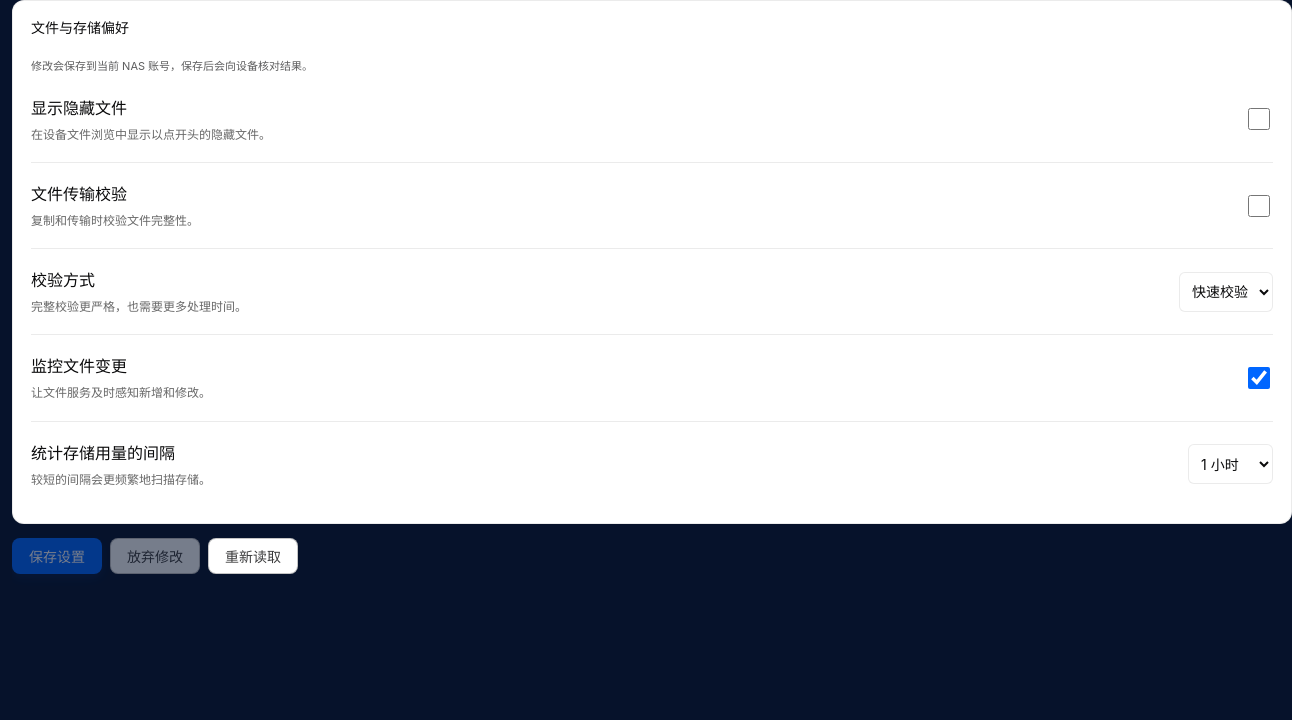
it: uses a settings form and confirms the device value after saving
Click the checkbox labelled "显示隐藏文件".
click(1259, 119)  # box [1248, 108, 1270, 130]
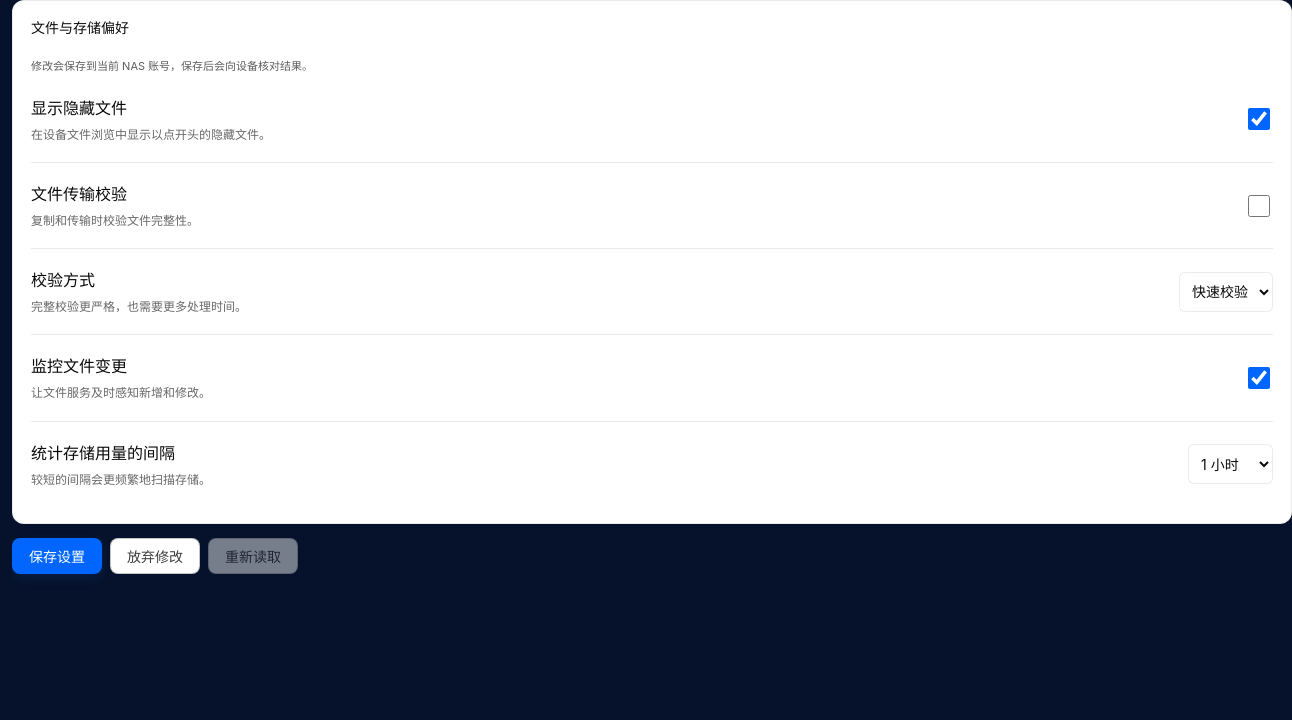
Click the button "保存设置".
click(57, 556)  # box [12, 538, 102, 574]
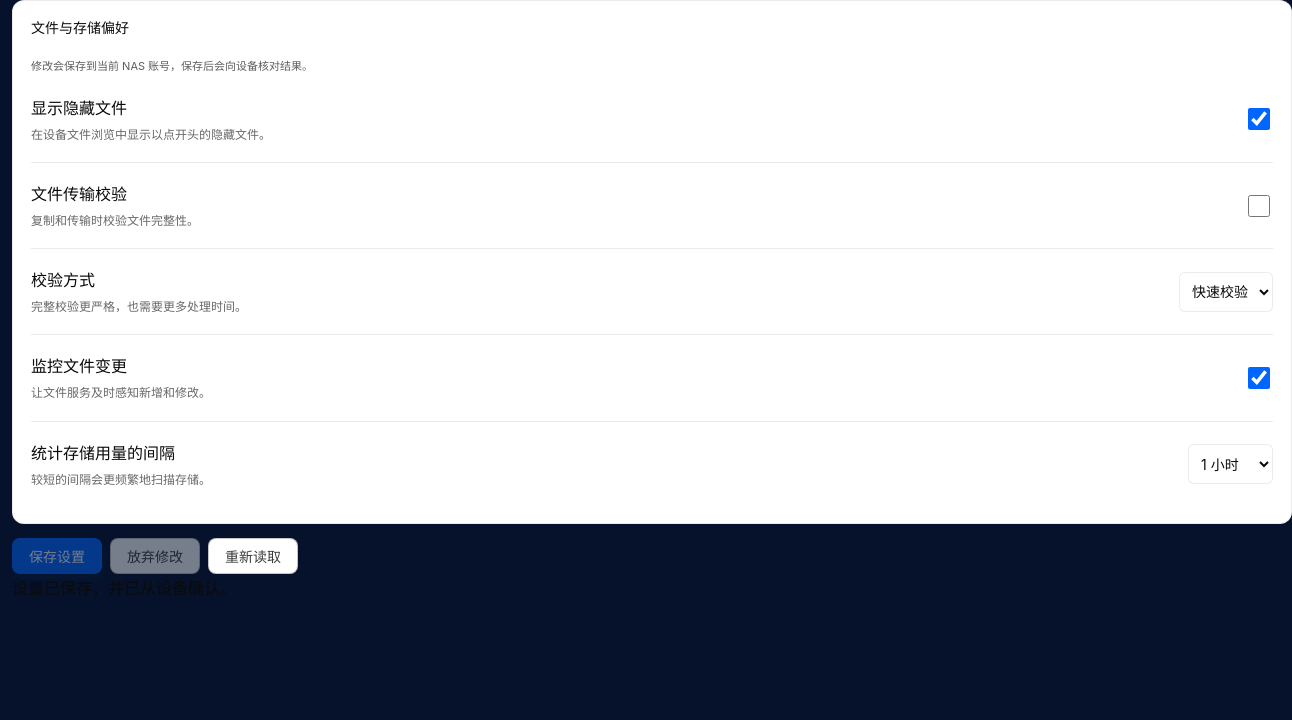
Expected: the checkbox labelled "显示隐藏文件" is checked, [1248, 108, 1270, 130]
Expected: the text "设置已保存，并已从设备确认。" is shown, [12, 578, 236, 598]
